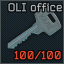OLI administration office key: (0, 0, 64, 64)
